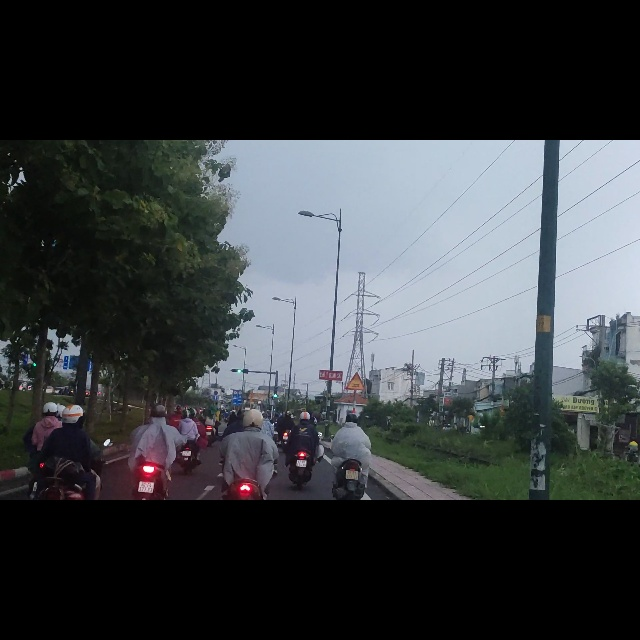bien_cam: (346, 412, 366, 446)
